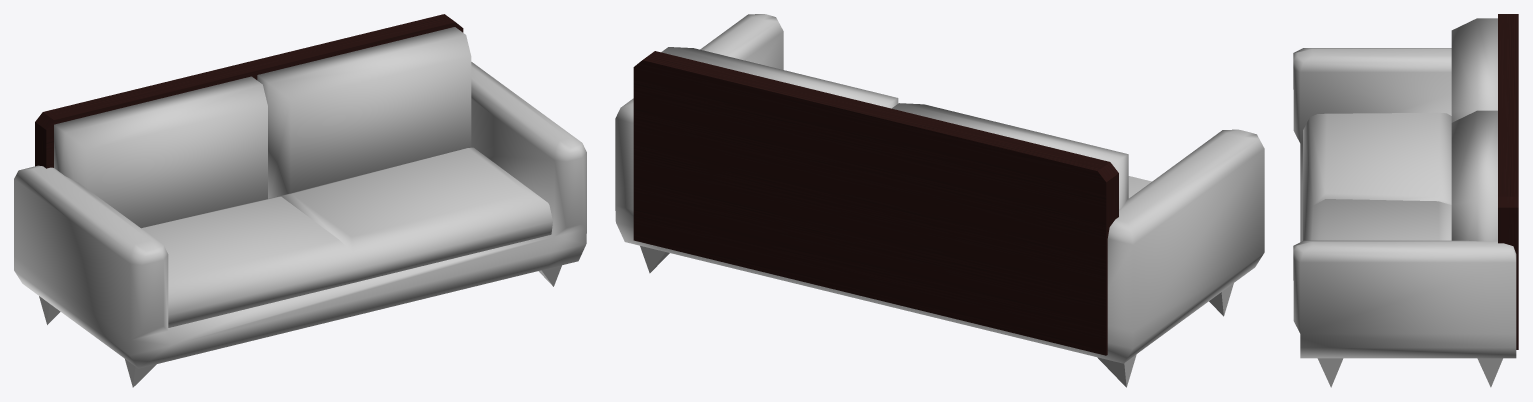
The model's file is Loveseat_09.FBX.
The picture shows the model from 3 angles, left to right: view 1: azimuth 30°, elevation 25°; view 2: azimuth 150°, elevation 25°; view 3: azimuth 270°, elevation 25°; orthographic projection. The views are drawn at different scales.
Parts seen in each view (by area): view 1: Loveseat; view 2: Loveseat; view 3: Loveseat.
Part boxes in pixels (left/top/right/bottom): Loveseat: left=14, top=14, right=586, bottom=387; Loveseat: left=615, top=14, right=1264, bottom=387; Loveseat: left=1293, top=14, right=1518, bottom=387.
Size of the model in its own units: 372 by 157 by 171.
